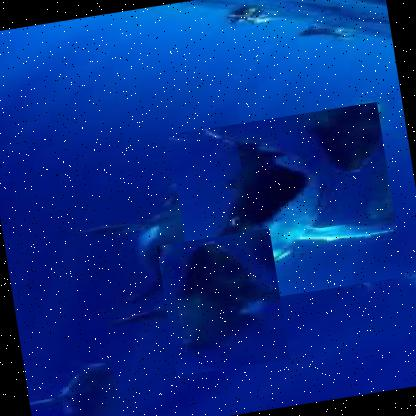blue_whale: (166, 102, 403, 310), (155, 228, 288, 377)
